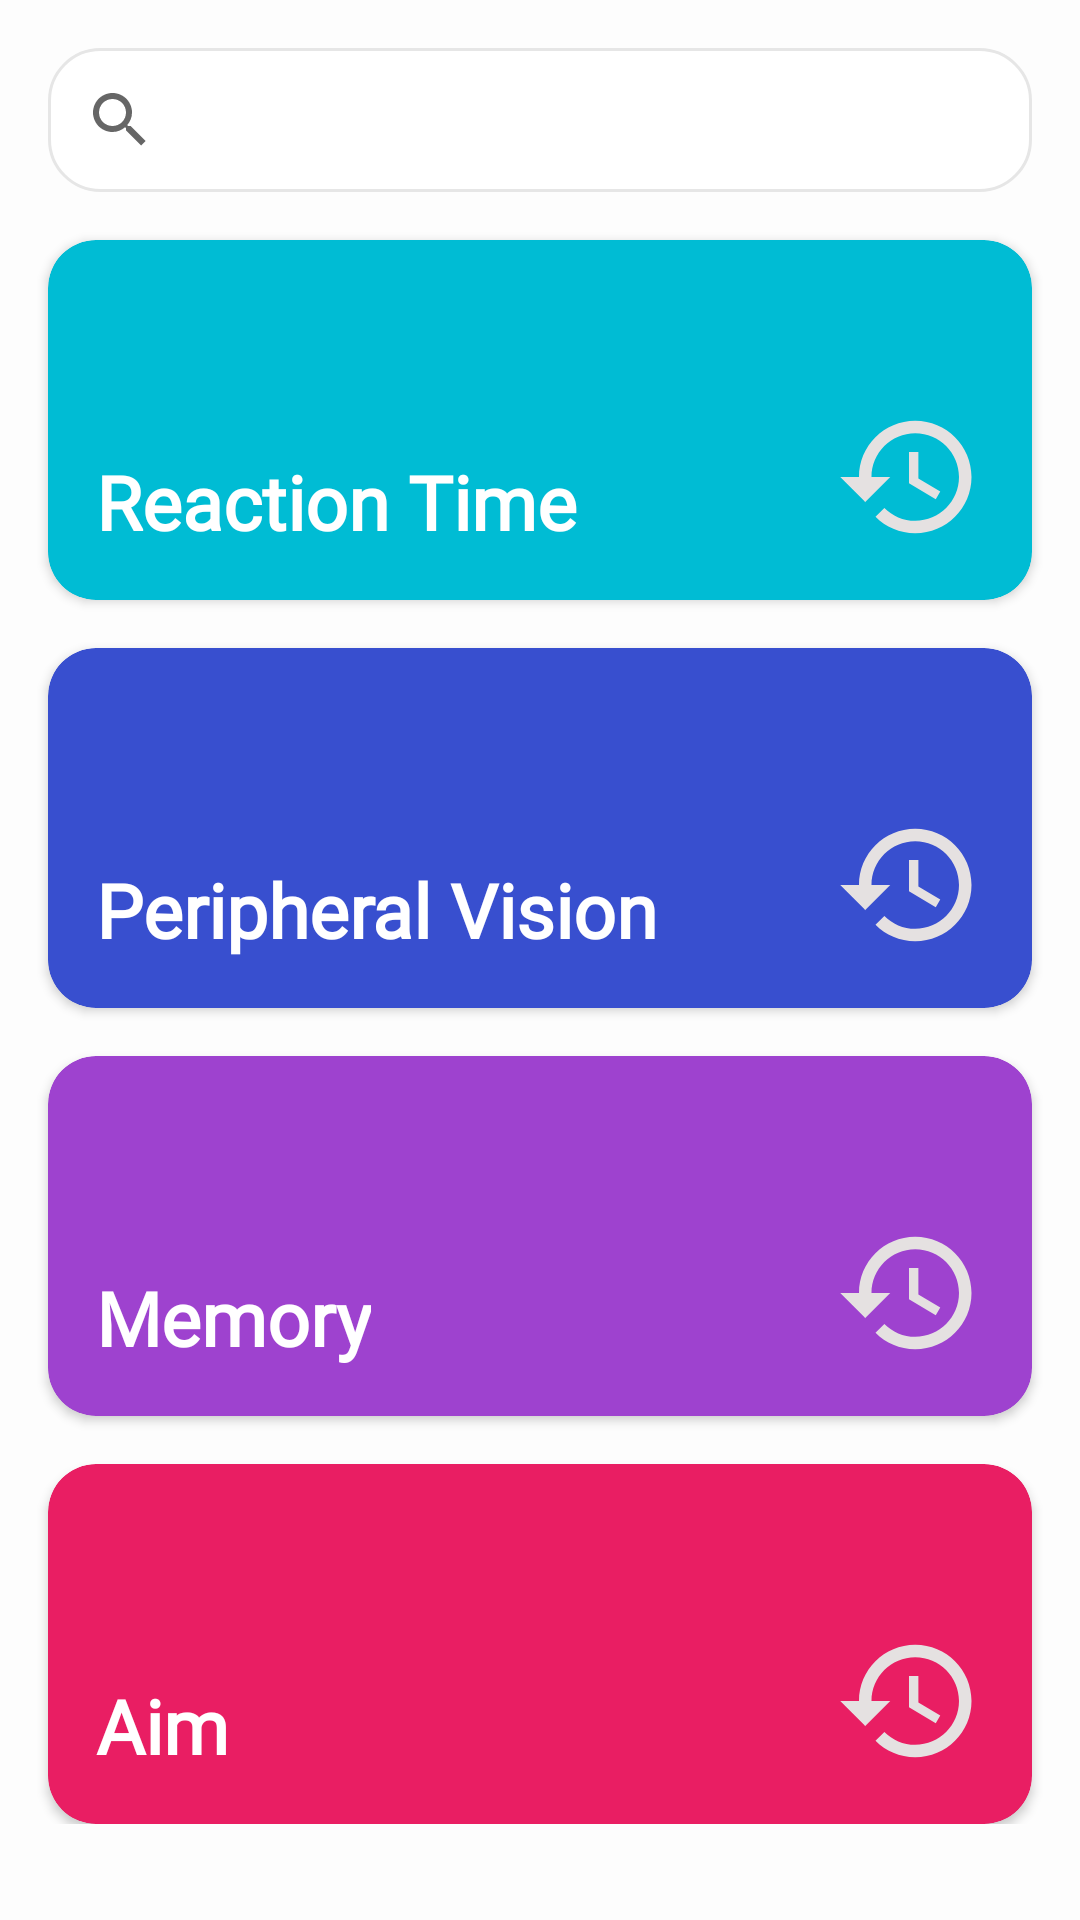

Icon click points for this 1080x1920 phone screenshot, format [x,y]:
history: [906,477], [906,885], [906,1293], [906,1701]
